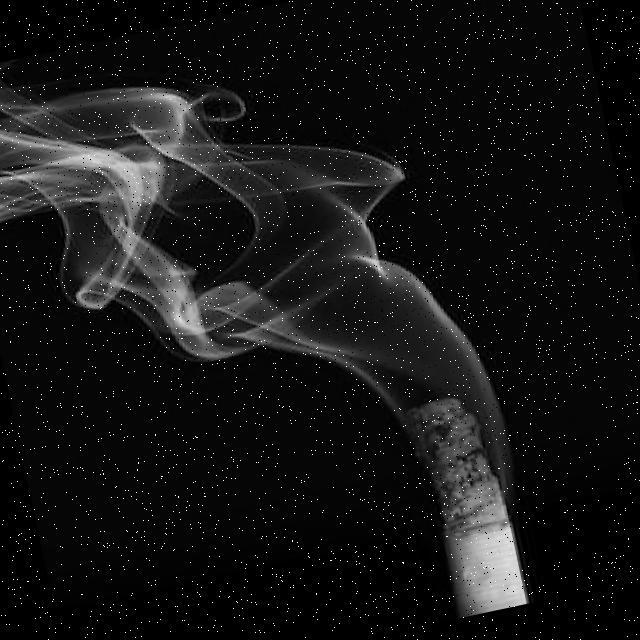cigarette: (407, 390, 534, 619)
